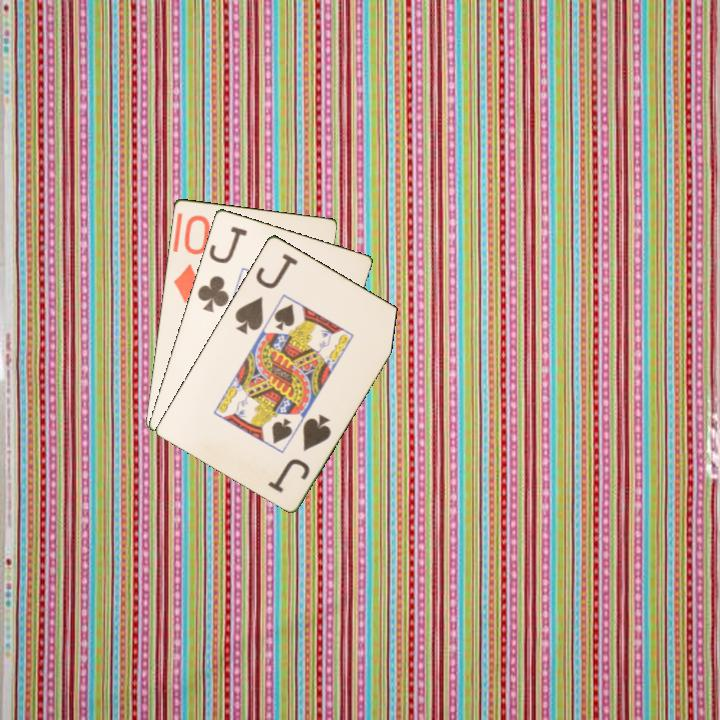10d: (169, 211, 213, 306)
Jc: (194, 222, 250, 315)
Js: (231, 249, 301, 337), (264, 410, 334, 496)
